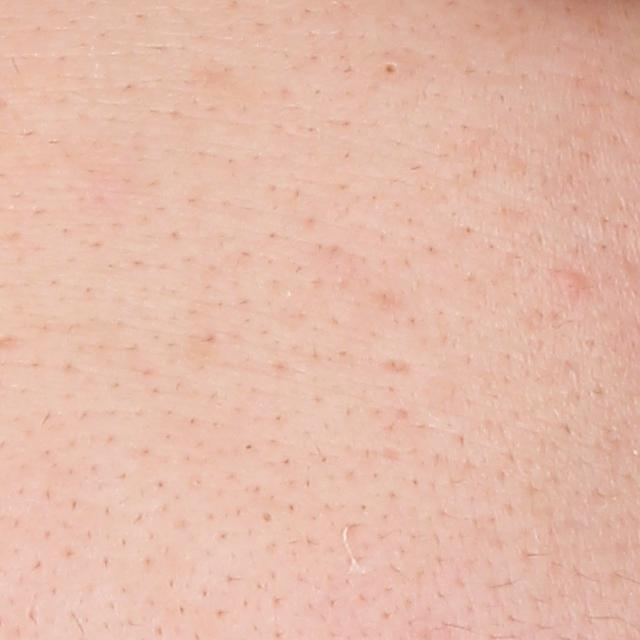atrophic_scar: (375, 355, 413, 378)
comedo: (552, 267, 585, 295), (376, 58, 405, 83)
